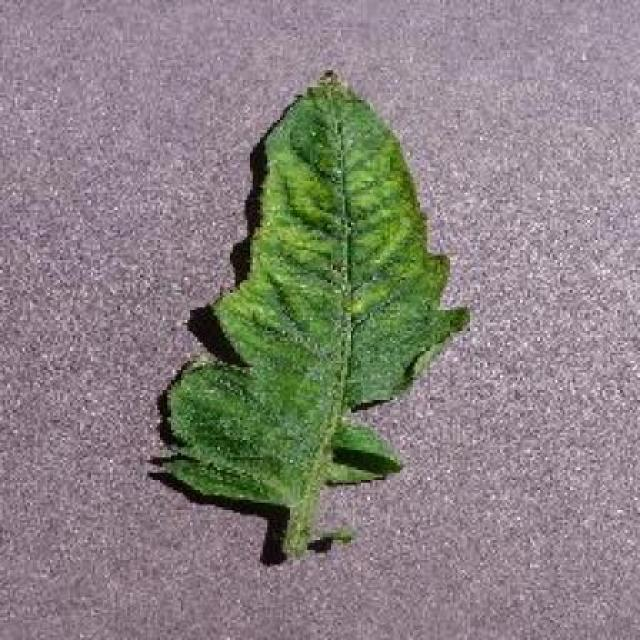Mosaic Virus: (154, 66, 474, 508)
